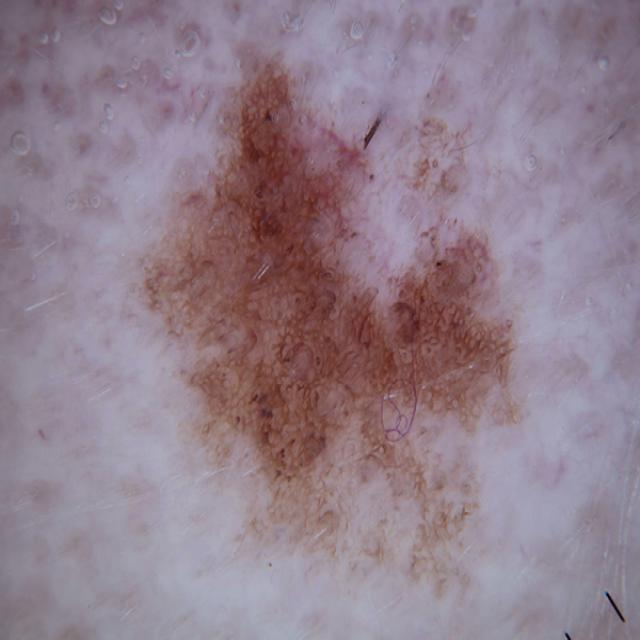Skin-Cancer Pigmented benign keratosis: (9, 13, 640, 640)
